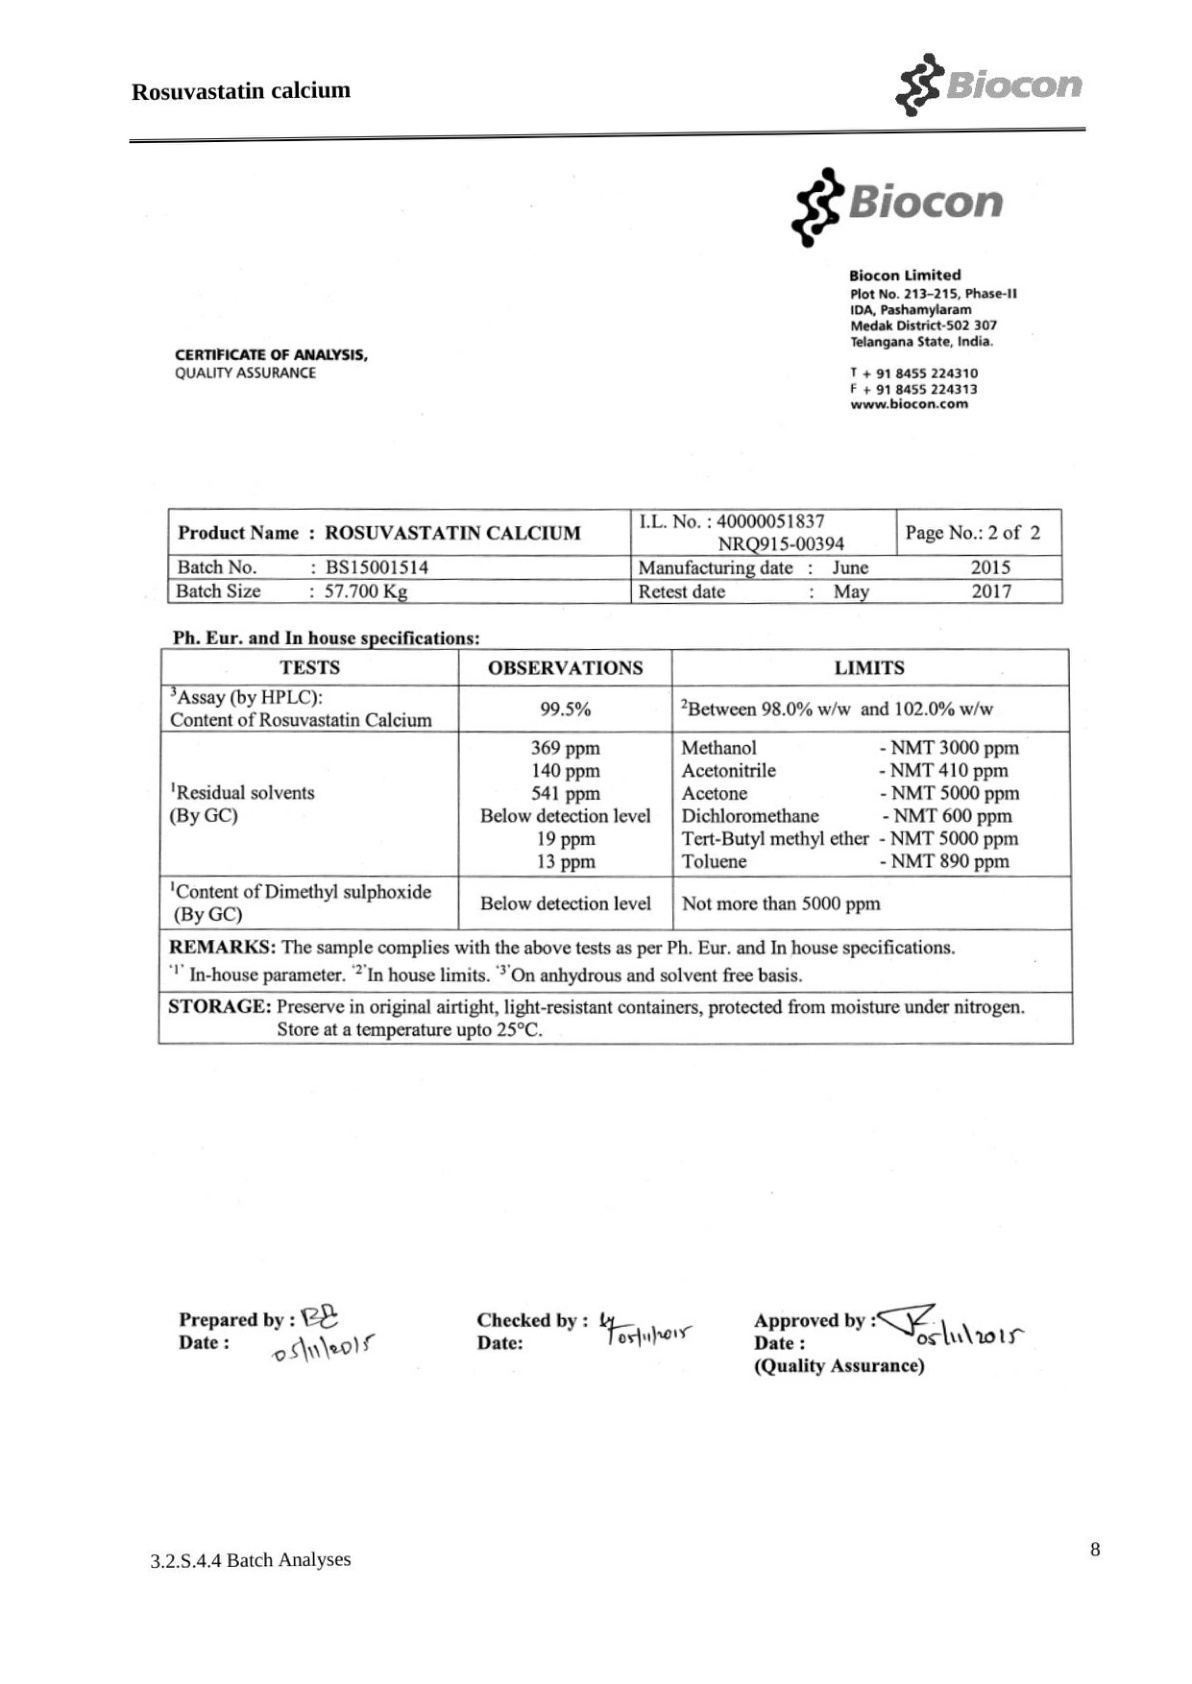merged_cells: (157, 646, 1075, 1044), (166, 507, 1066, 606)
